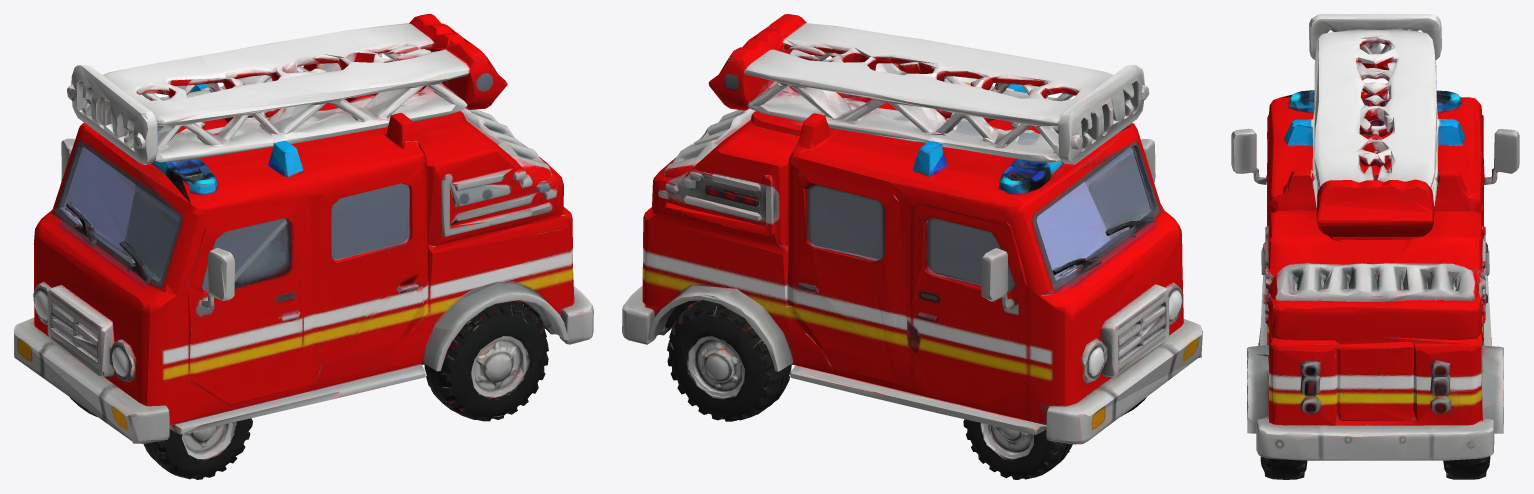
The model's file is veh_firetruck.glb.
The picture shows the model from 3 angles, left to right: view 1: azimuth 30°, elevation 25°; view 2: azimuth 150°, elevation 25°; view 3: azimuth 270°, elevation 25°; orthographic projection. The views are drawn at different scales.
Bounding box in the file's own units: 1.9 × 1.43 × 1.16.
Materials: 1 (1 with a texture image).
